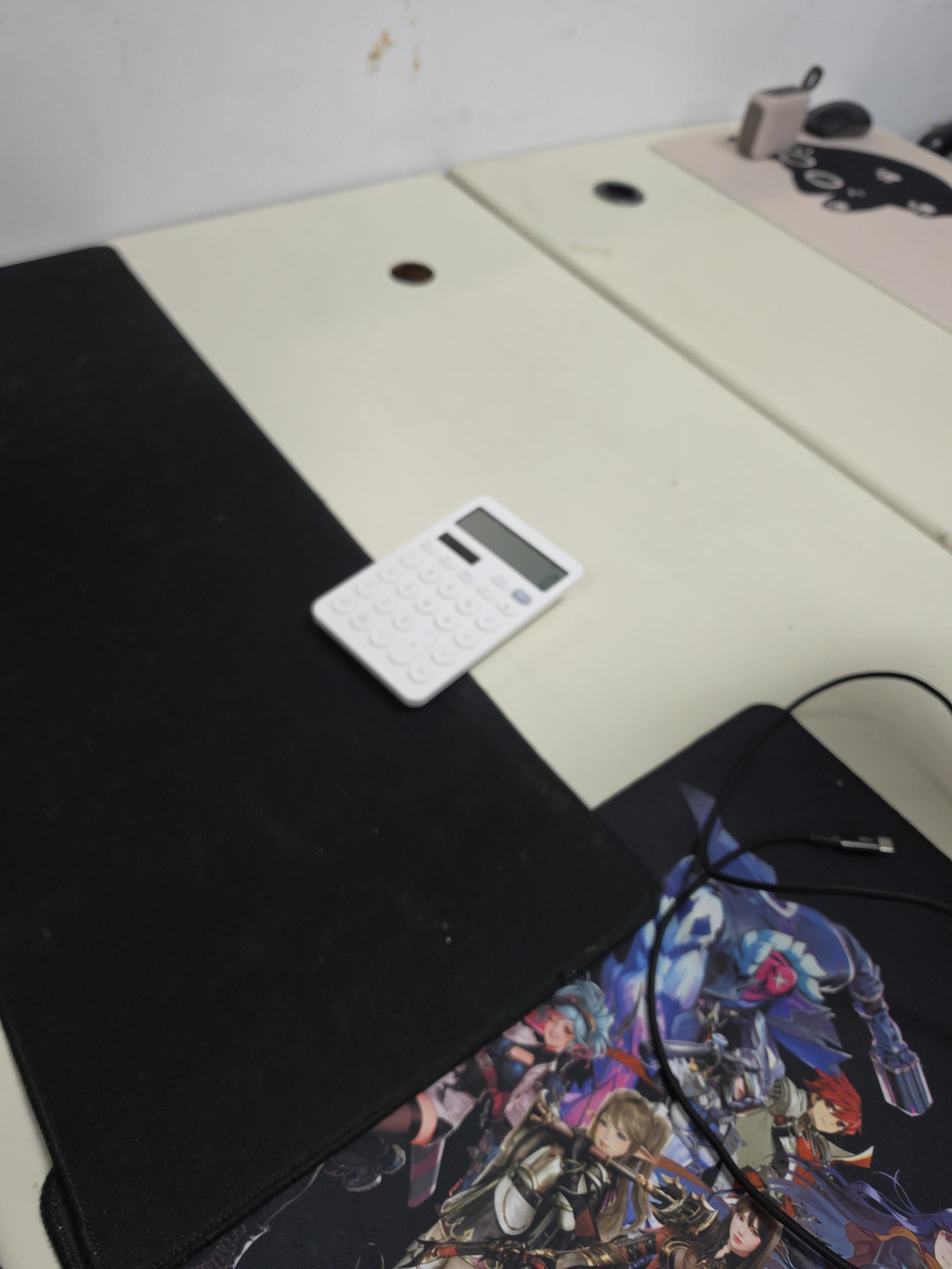calculator: (311, 494, 585, 709)
